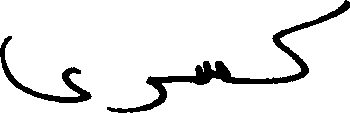ر: (105, 74, 168, 111)
س: (193, 59, 230, 85)
ك: (270, 0, 347, 84)
ى: (0, 33, 93, 102)
